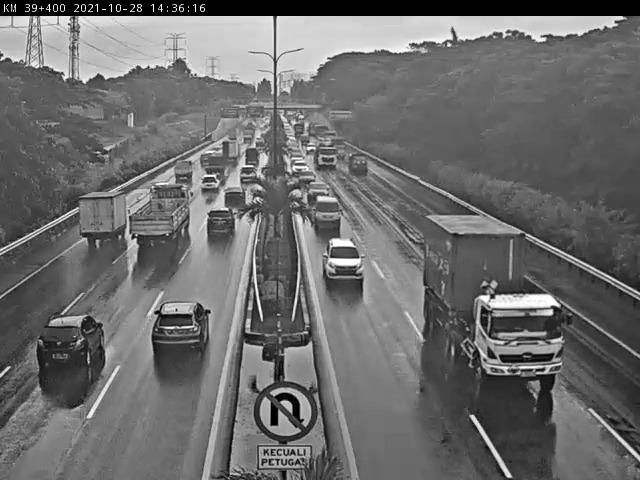big truck: (424, 211, 564, 391), (122, 185, 189, 253)
car: (36, 313, 106, 370), (151, 300, 209, 357), (323, 234, 365, 284), (203, 205, 236, 240), (312, 197, 344, 232), (221, 185, 249, 207), (234, 165, 258, 187), (307, 181, 331, 203), (198, 173, 223, 193), (297, 167, 317, 186)
small truck: (77, 192, 129, 247), (173, 157, 196, 180)
